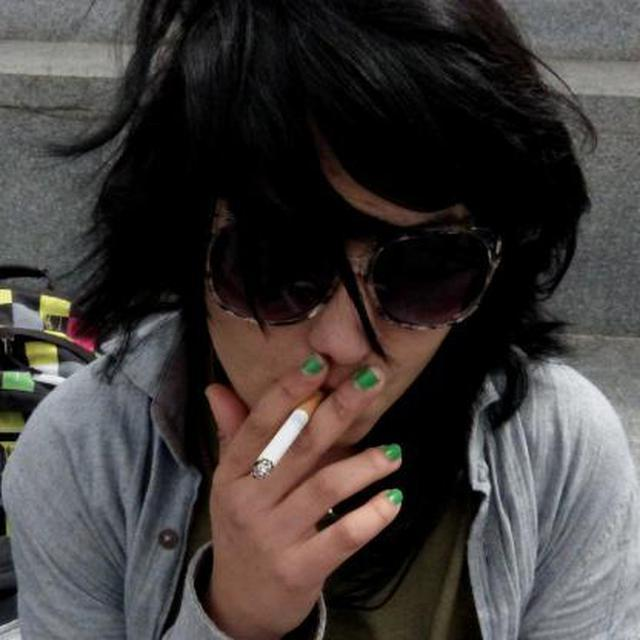smoking: (248, 384, 336, 479)
